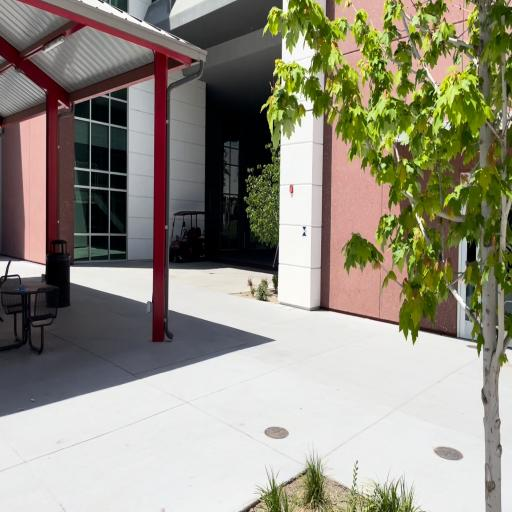target9: (302, 226, 307, 237)
